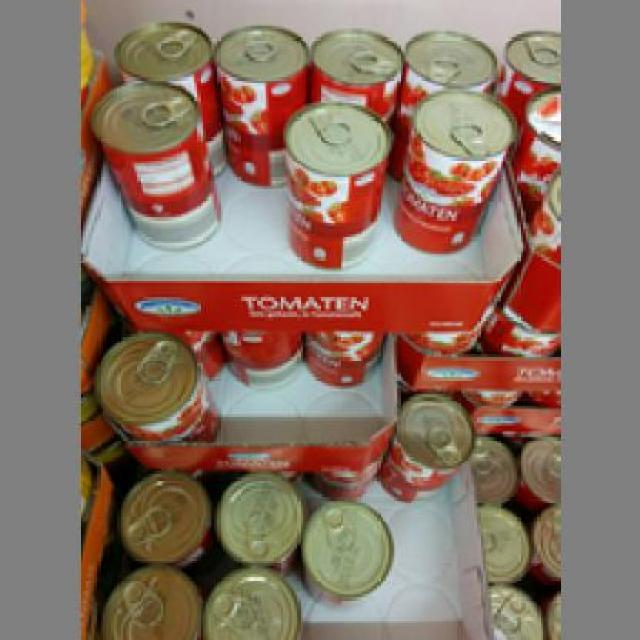Tomato Sauce: (85, 77, 221, 254), (276, 95, 389, 272), (394, 88, 512, 252), (208, 20, 306, 183), (89, 328, 214, 434), (372, 391, 468, 506)
